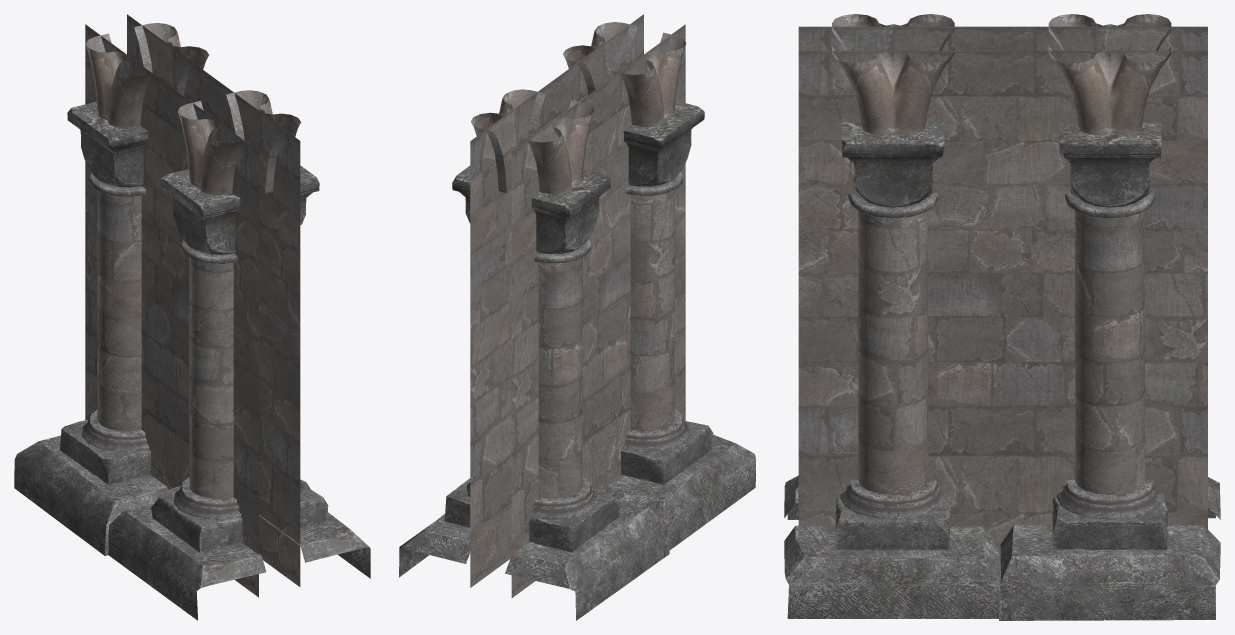
3 views of the same model, side by side, from view 1: azimuth 30°, elevation 25°; view 2: azimuth 150°, elevation 25°; view 3: azimuth 270°, elevation 25° (orthographic). The views are drawn at different scales.
Visible parts, largest first — view 1: SM_DungeonDestractWall_LOD0; view 2: SM_DungeonDestractWall_LOD0; view 3: SM_DungeonDestractWall_LOD0.
Boxes of the visible parts, x1=… form: SM_DungeonDestractWall_LOD0: x1=14, y1=14, x2=370, y2=620; SM_DungeonDestractWall_LOD0: x1=399, y1=14, x2=755, y2=620; SM_DungeonDestractWall_LOD0: x1=784, y1=14, x2=1220, y2=620.
Bounding box in the file's own units: 1.13 × 2.7 × 2.01.
2 materials, 2 textured.
